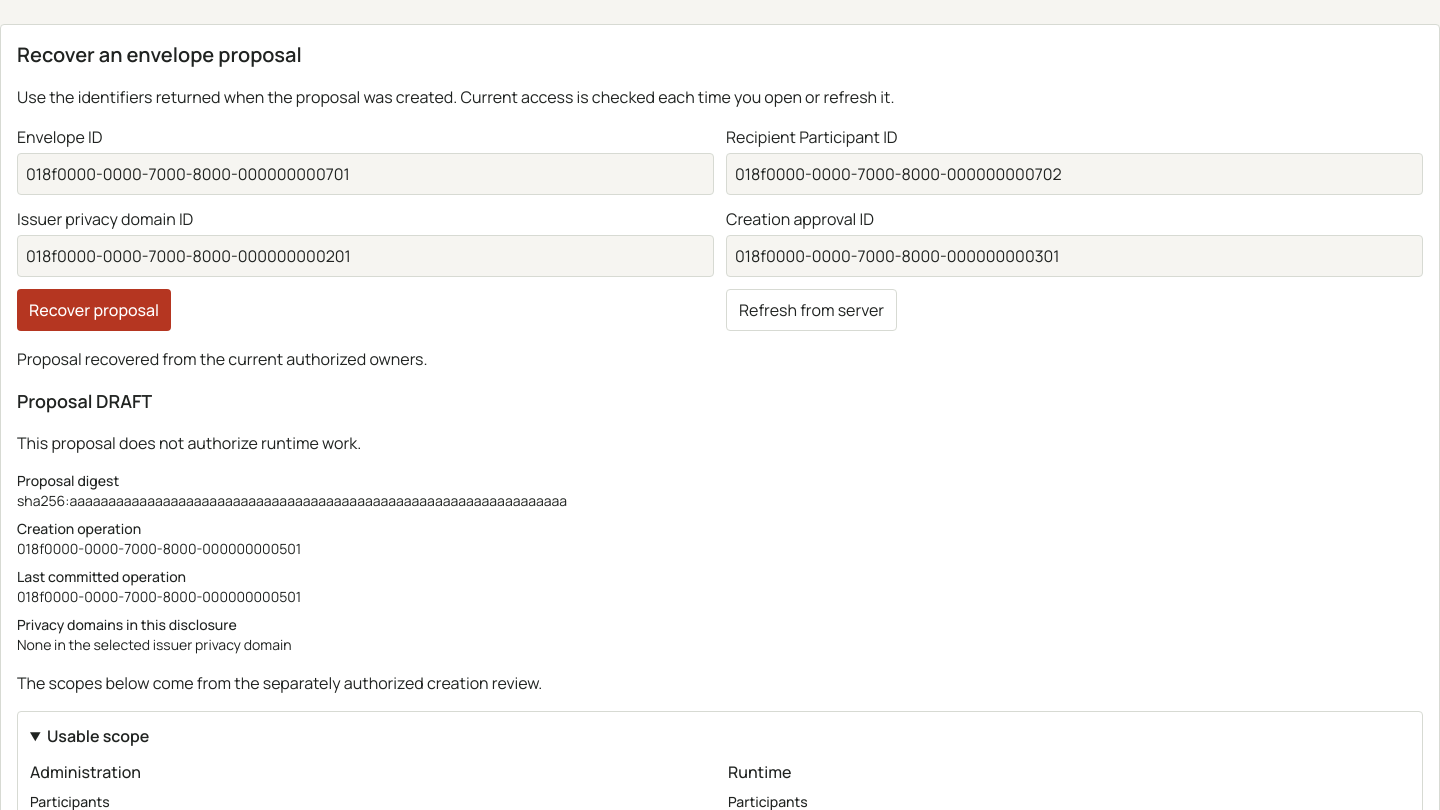
Test: clears scope on identifier edits before native validation and stops refreshing the old selection
The width and height of the screenshot is (1440, 810).
expect the heading "Proposal DRAFT" is shown: met, box [17,389,152,413]
Replace the text in the field labelled "Envelope ID" with "invalid": (366, 174) [17,153,714,195]
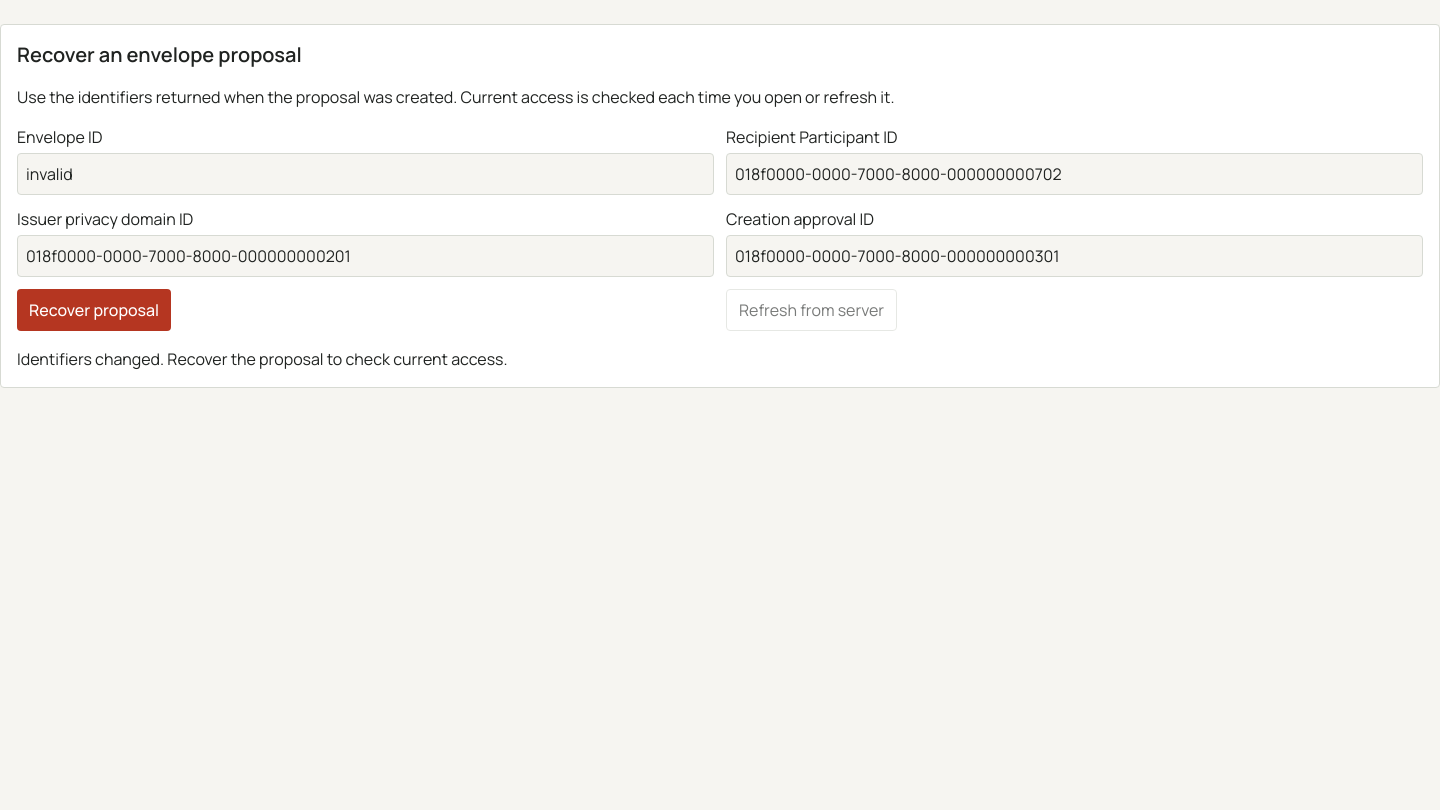
expect the heading "Usable scope" is gone: met
expect the button "Refresh from server" is disabled: met, box [726,289,897,331]
